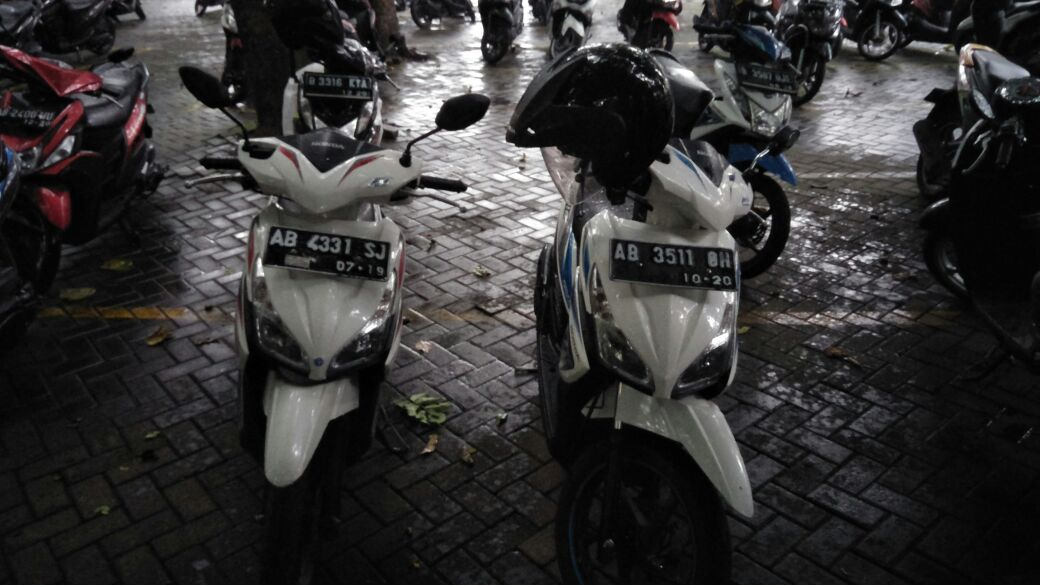plate: (266, 225, 392, 284), (612, 239, 737, 293), (305, 71, 374, 99)
